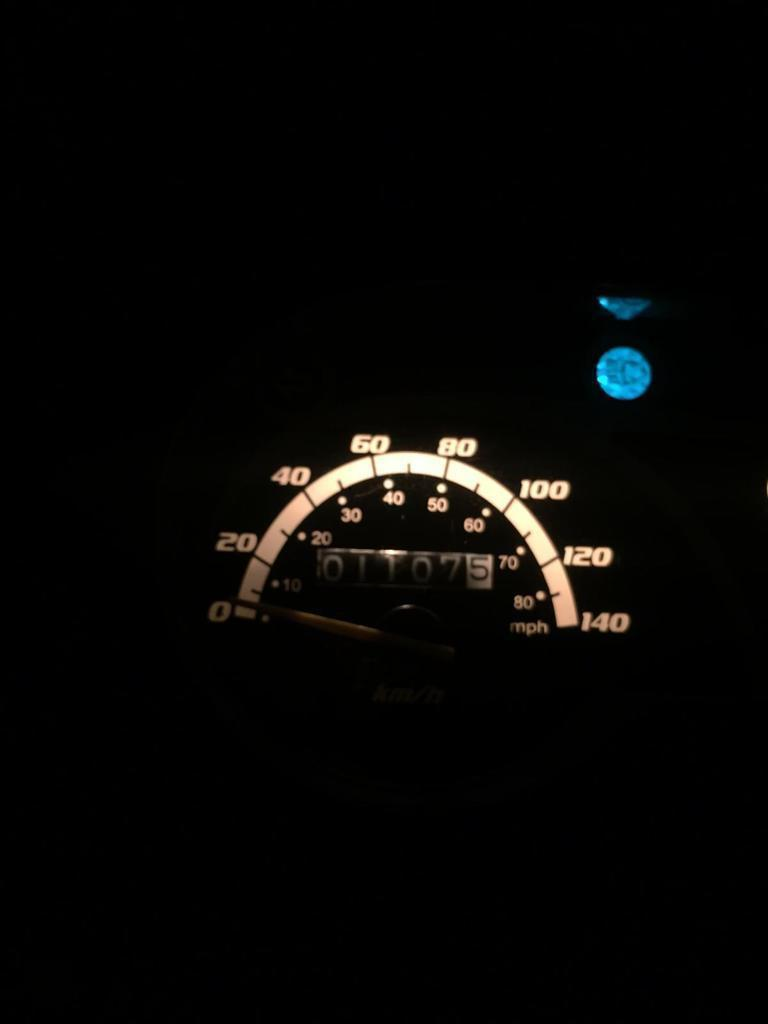0: (319, 551, 345, 583), (408, 554, 434, 586)
1: (352, 552, 371, 583), (383, 553, 398, 584)
5: (467, 554, 491, 584)
7: (437, 553, 463, 585)
odometer: (311, 544, 498, 592)
